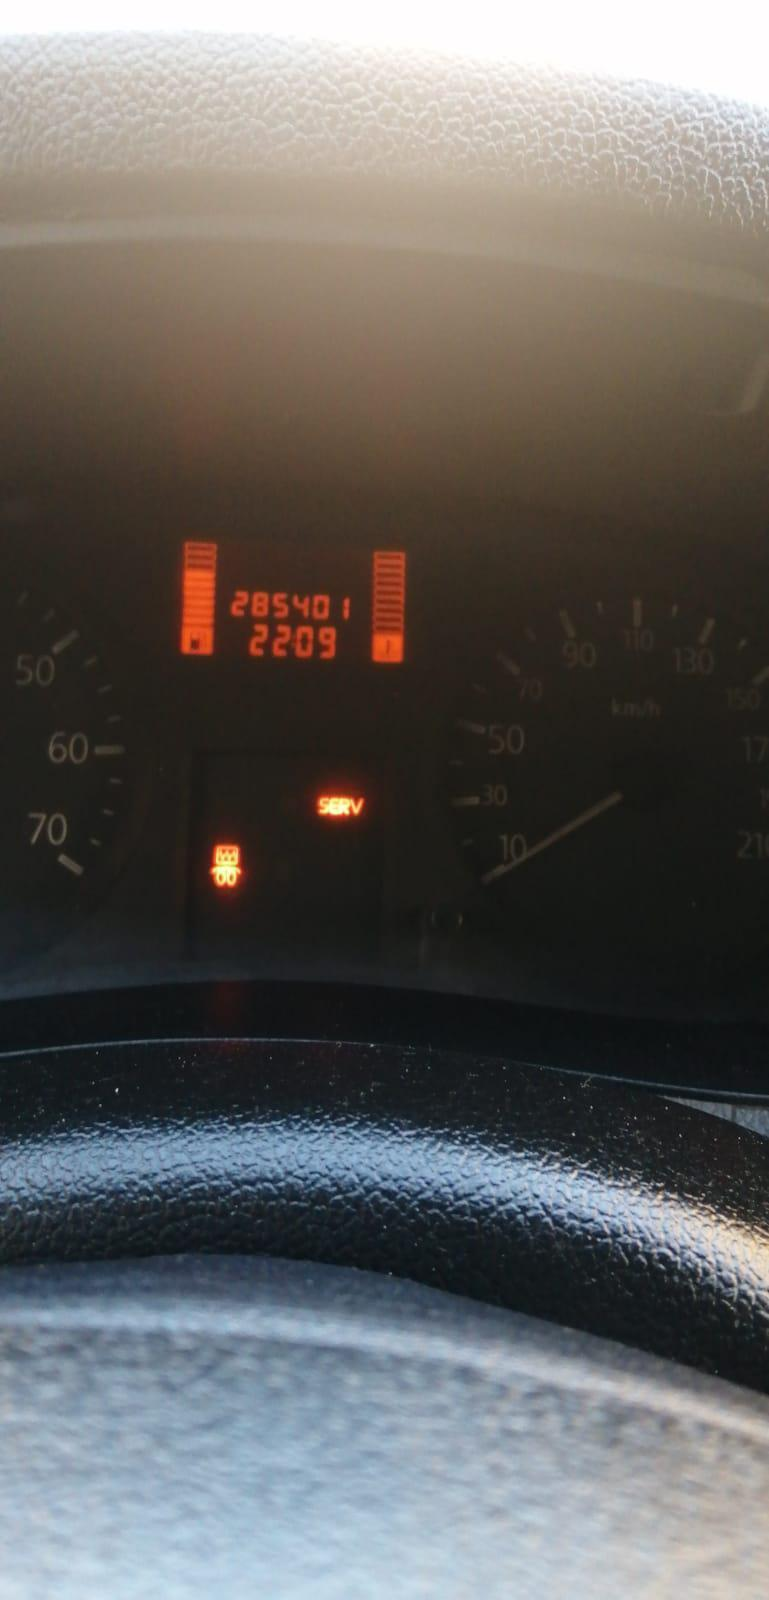0: (294, 624, 314, 658), (311, 593, 330, 619)
1: (342, 596, 350, 620)
2: (248, 623, 269, 656), (272, 623, 291, 657), (229, 589, 249, 617)
4: (292, 592, 310, 618)
5: (272, 591, 290, 617)
8: (251, 591, 269, 617)
9: (318, 626, 336, 660)
odometer: (169, 530, 411, 668)
